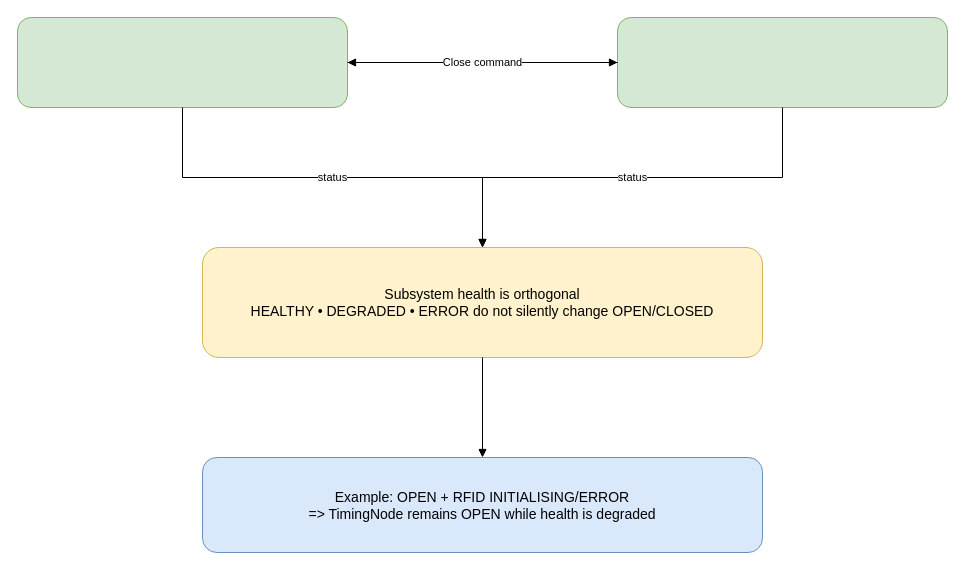
Some shapes in this 965 by 570 pixel diagram are drawn without their labels. Here are the shapes that lost their labels. From the top down, the box of each, then its label:
(16, 16, 348, 108): CLOSED not accepting normal TimingNode operation
(616, 16, 948, 108): OPEN TimingNode operation enabled
